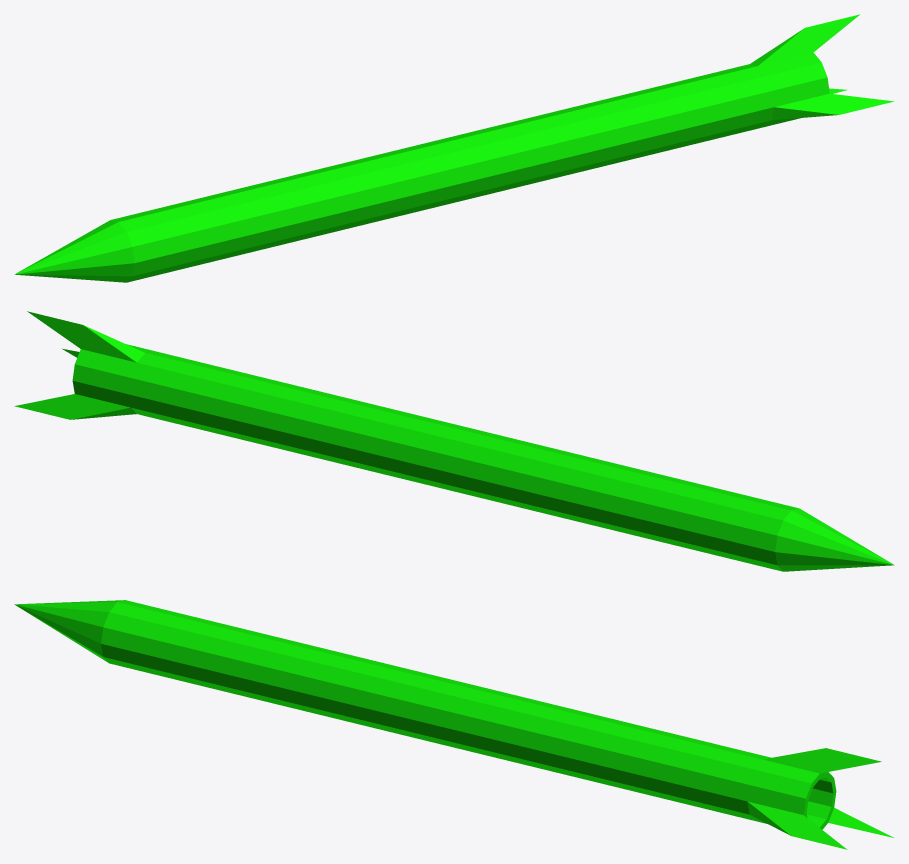
The model's file is enemyMissle.glb.
3 renders of one model, top to bottom at view 1: azimuth 30°, elevation 25°; view 2: azimuth 150°, elevation 25°; view 3: azimuth 330°, elevation 25°, orthographic.
Parts seen in each view (by area): view 1: Cylinder; view 2: Cylinder; view 3: Cylinder.
Part boxes in pixels (box(x1,y1,x2,y2)): Cylinder: box(14, 14, 894, 282); Cylinder: box(14, 311, 894, 571); Cylinder: box(14, 600, 893, 849).
Size of the model in its own units: 3.99 by 0.3794 by 0.3794.
